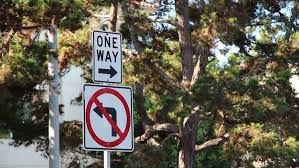No_left_turn: (86, 87, 132, 147)
